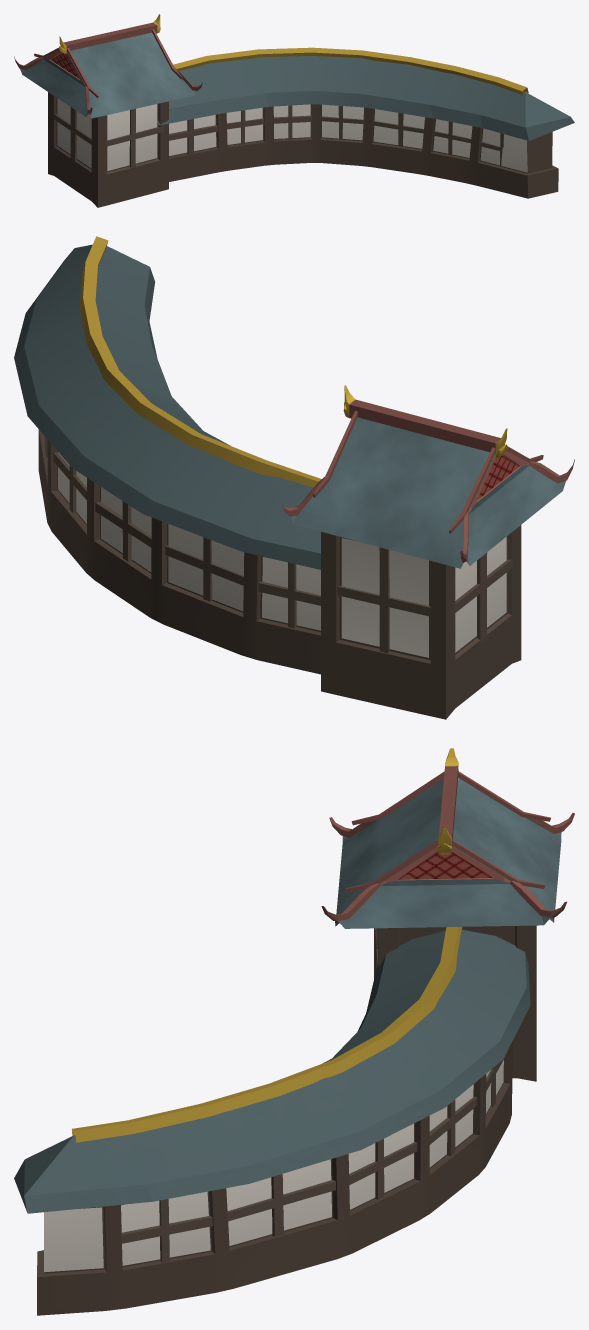
The model's file is lvl_3_A.fbx.
The picture shows the model from 3 angles, top to bottom: view 1: azimuth 30°, elevation 25°; view 2: azimuth 150°, elevation 25°; view 3: azimuth 270°, elevation 25°; orthographic projection. The views are drawn at different scales.
Visible parts, largest first — view 1: lvl_3_A; view 2: lvl_3_A; view 3: lvl_3_A.
Part boxes in pixels (x1,y1,x2,y2): lvl_3_A: (14,14,574,207); lvl_3_A: (14,236,574,719); lvl_3_A: (14,748,574,1315).
Size of the model in its own units: 1526 by 578 by 1111.
